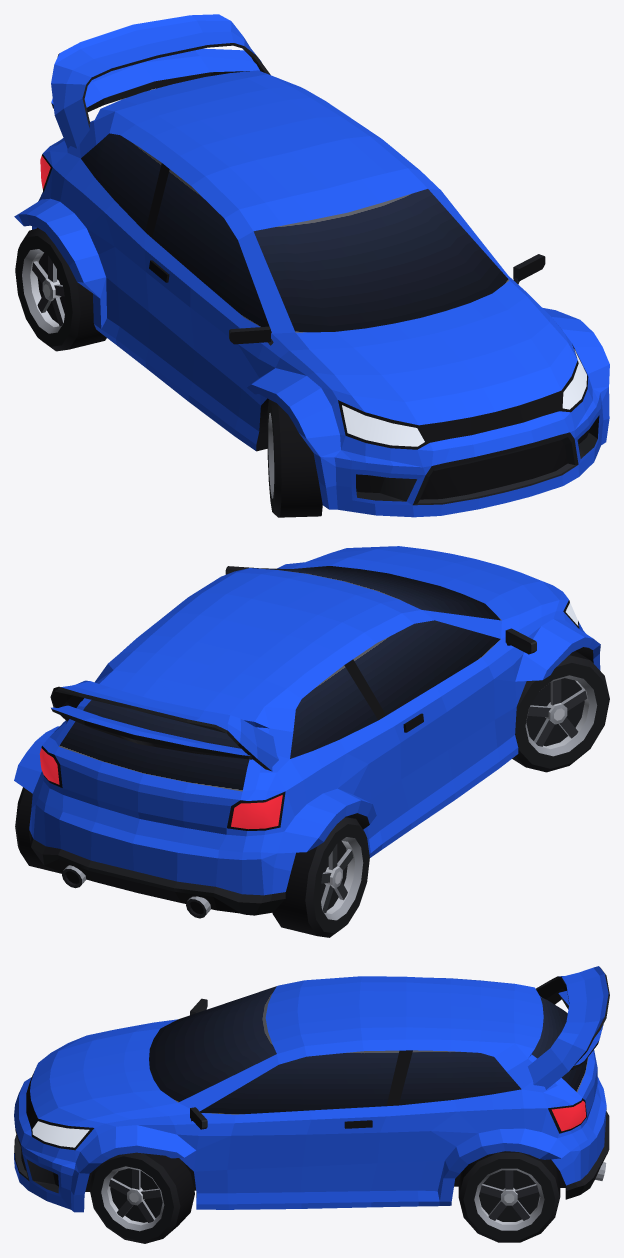
Rendered from everest.glb.
3 views of the same model, one above another, from view 1: azimuth 30°, elevation 25°; view 2: azimuth 150°, elevation 25°; view 3: azimuth 270°, elevation 25° (orthographic). The views are drawn at different scales.
Visible parts, largest first — view 1: Body, RRW, FRW; view 2: Body, FRW, RRW, RLW; view 3: Body, RLW, FLW.
Part boxes in pixels (left/top/right/bottom): Body: left=14, top=14, right=609, bottom=517; RRW: left=15, top=228, right=106, bottom=351; FRW: left=267, top=399, right=322, bottom=517; Body: left=14, top=546, right=600, bottom=918; FRW: left=512, top=651, right=609, bottom=772; RRW: left=272, top=816, right=369, bottom=937; RLW: left=15, top=787, right=62, bottom=873; Body: left=14, top=966, right=609, bottom=1212; RLW: left=458, top=1151, right=560, bottom=1242; FLW: left=89, top=1152, right=194, bottom=1243.
Size of the model in its own units: 2 by 1.34 by 3.78.
Materials: 2 (2 with a texture image).
